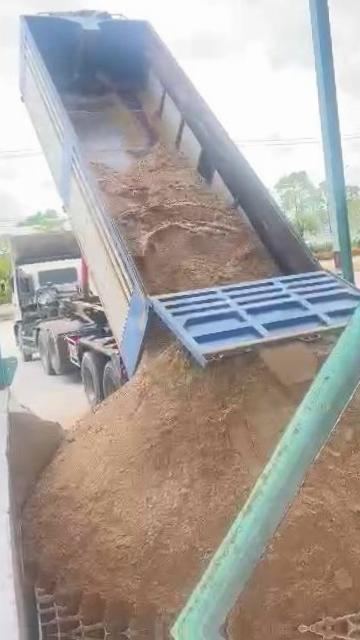sand: (25, 314, 303, 631), (231, 399, 360, 628), (92, 144, 277, 294), (8, 399, 61, 508), (259, 340, 333, 386)
